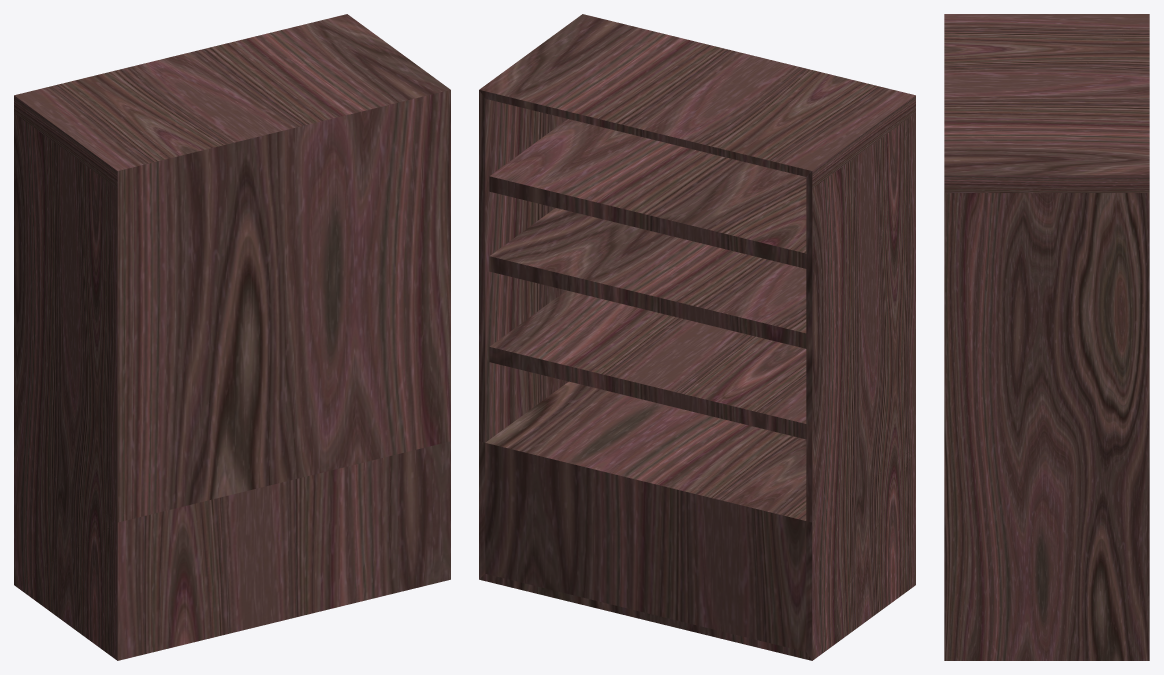
File: Bookshelf.fbx
3 views of the same model, side by side, from view 1: azimuth 30°, elevation 25°; view 2: azimuth 150°, elevation 25°; view 3: azimuth 270°, elevation 25° (orthographic).
Parts seen in each view (by area): view 1: Bookshelf; view 2: Bookshelf; view 3: Bookshelf.
Boxes of the visible parts, bbox=[...] form: Bookshelf: bbox=[14, 14, 450, 660]; Bookshelf: bbox=[479, 14, 915, 660]; Bookshelf: bbox=[944, 14, 1149, 660].
Bounding box in the file's own units: 0.6546 × 0.9195 × 0.3524.
